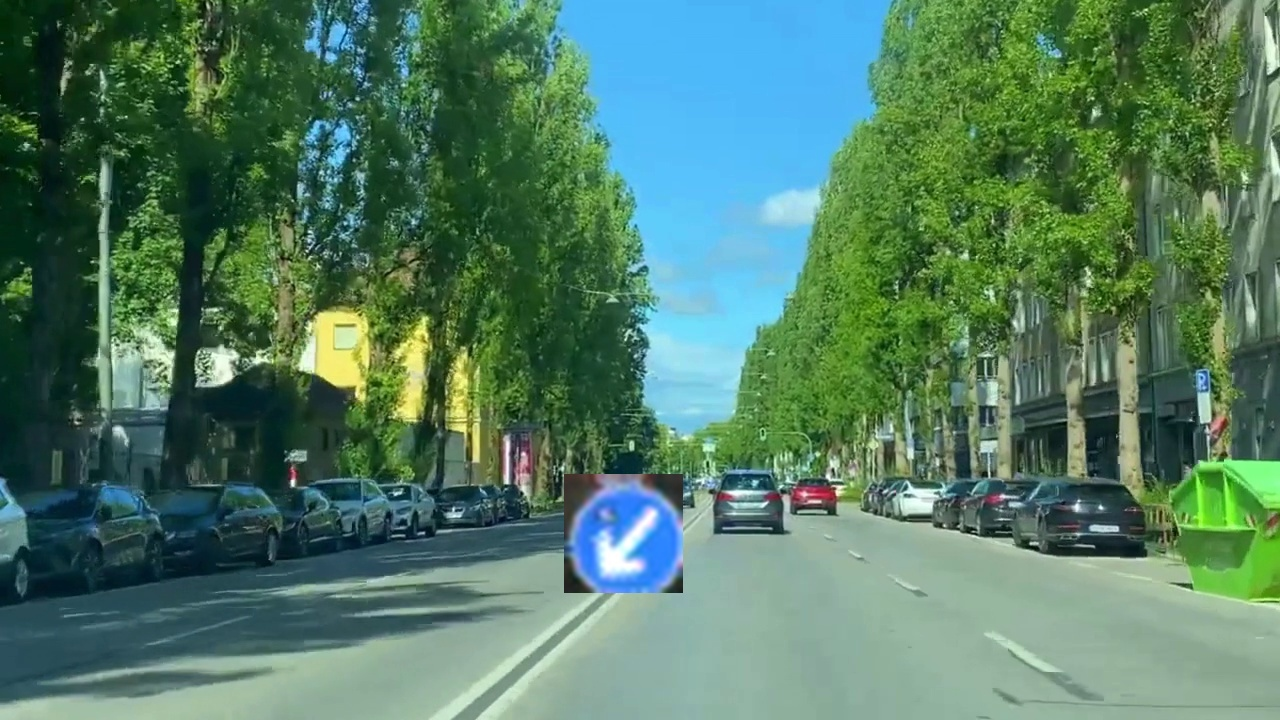Keep left: (564, 474, 683, 593)
